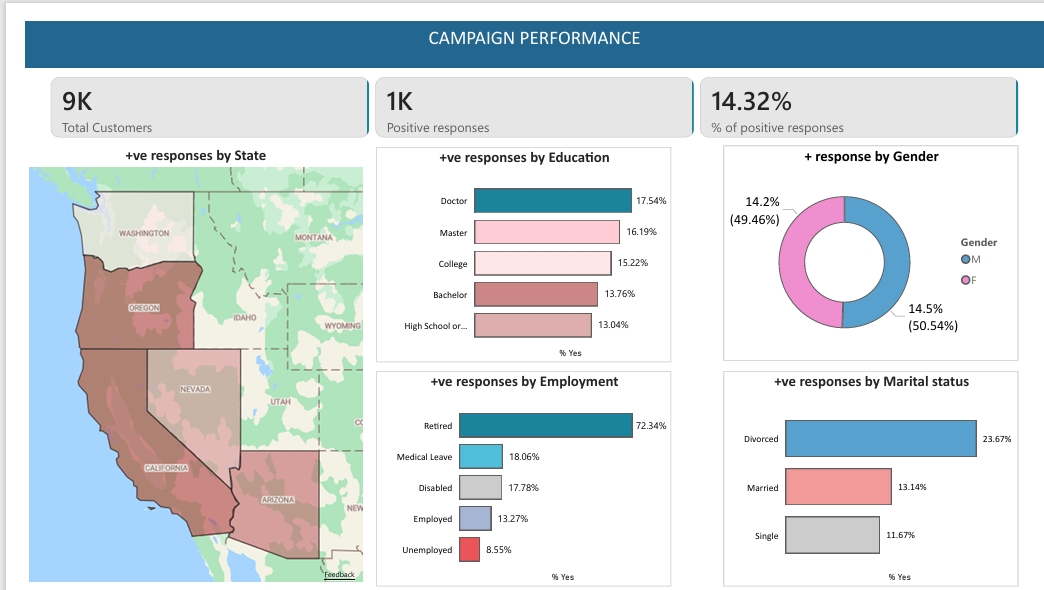

The page's visual inventory and layout, read from the dashboard file:
{"tool":"powerbi","page":{"name":"Effectiveness by demographics","canvas":[1280,720],"ordinal":0},"visuals":[{"type":"cardVisual","fields":{"Data":["MarketingCampaign.Total Rows","MarketingCampaign.Yes Count","MarketingCampaign.% Yes"]},"box":[0,58.3,1274.3,98.8],"z":0},{"type":"textbox","box":[0,0,1274.3,58.3],"z":1000},{"type":"azureMap","title":"+ve responses by State","fields":{"Category":["MarketingCampaign.State"]},"box":[0,155.4,427.5,550.5],"z":2000},{"type":"barChart","title":"+ve responses by Education","fields":{"Category":["MarketingCampaign.Education"],"Y":["MarketingCampaign.% Yes"]},"box":[438.8,157.1,369.2,268.8],"z":3000},{"type":"barChart","title":"+ve responses by Employment","fields":{"Category":["MarketingCampaign.EmploymentStatus"],"Y":["MarketingCampaign.% Yes"]},"box":[438.8,437.2,369.2,268.8],"z":4000},{"type":"barChart","title":"+ve responses by Marital status","fields":{"Category":["MarketingCampaign.Marital Status"],"Y":["MarketingCampaign.% Yes"]},"box":[872.8,437.2,369.2,268.8],"z":5000},{"type":"donutChart","title":"+ response by Gender","fields":{"Y":["MarketingCampaign.% Yes"],"Category":["MarketingCampaign.Gender"]},"box":[872.8,155.4,369.2,268.8],"z":6000}]}

Visuals, with their boxes in screenshot pixels (x1, y1, x2, y2), scaled from the page's 1280x720 canvas onto the 1044x590 screenshot:
cardVisual - MarketingCampaign.Total Rows x MarketingCampaign.Yes Count: detection(0, 48, 1039, 129)
textbox: detection(0, 0, 1039, 48)
"+ve responses by State" azureMap: detection(0, 127, 349, 578)
"+ve responses by Education" barChart: detection(358, 129, 659, 349)
"+ve responses by Employment" barChart: detection(358, 358, 659, 579)
"+ve responses by Marital status" barChart: detection(712, 358, 1013, 579)
"+ response by Gender" donutChart: detection(712, 127, 1013, 348)
